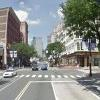Crosswalk: (15, 69, 90, 96)
